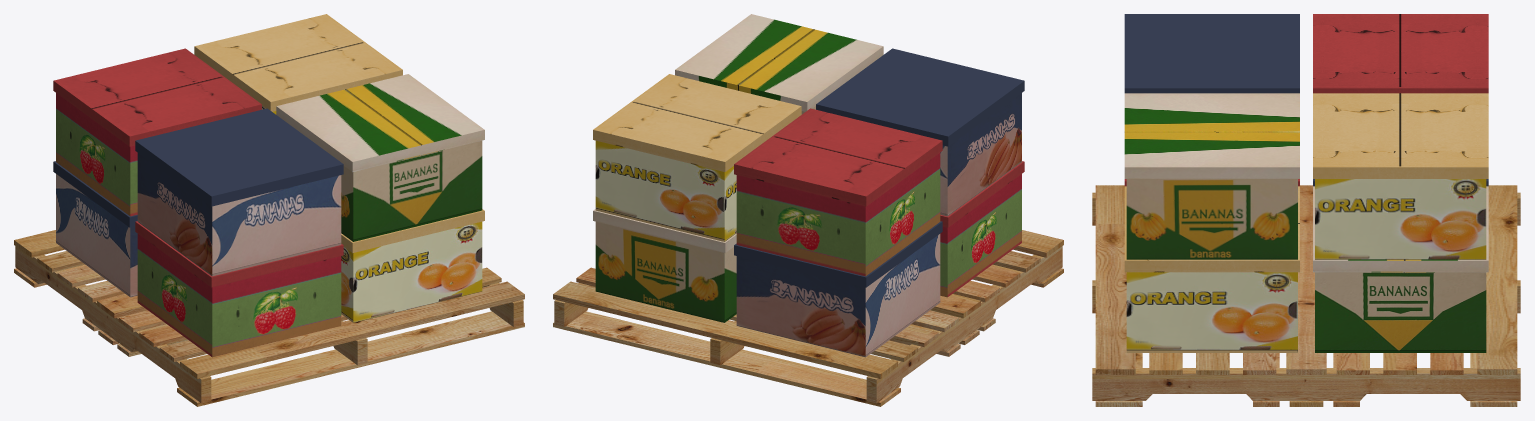
Rendered from Cardboard_boxGroup01a.FBX.
3 views of the same model, side by side, from view 1: azimuth 30°, elevation 25°; view 2: azimuth 150°, elevation 25°; view 3: azimuth 270°, elevation 25° (orthographic). The views are drawn at different scales.
Visible parts, largest first — view 1: Cardboard_boxGroup01a1, Cardboard_boxGroup01a2, Cardboard_boxG; view 2: Cardboard_boxGroup01a1, Cardboard_boxGroup01a2, Cardboard_boxG; view 3: Cardboard_boxGroup01a2, Cardboard_boxG, Cardboard_boxGroup01a1.
Boxes of the visible parts, box(x1,y1,x2,y2) form: Cardboard_boxGroup01a1: box(53, 48, 343, 357); Cardboard_boxGroup01a2: box(194, 14, 484, 322); Cardboard_boxG: box(14, 230, 524, 406); Cardboard_boxGroup01a1: box(734, 48, 1024, 357); Cardboard_boxGroup01a2: box(593, 14, 883, 322); Cardboard_boxG: box(553, 230, 1063, 406); Cardboard_boxGroup01a2: box(1124, 93, 1488, 352); Cardboard_boxG: box(1092, 185, 1520, 406); Cardboard_boxGroup01a1: box(1124, 14, 1488, 186).
Size of the model in its own units: 2.16 by 1.23 by 2.12.
